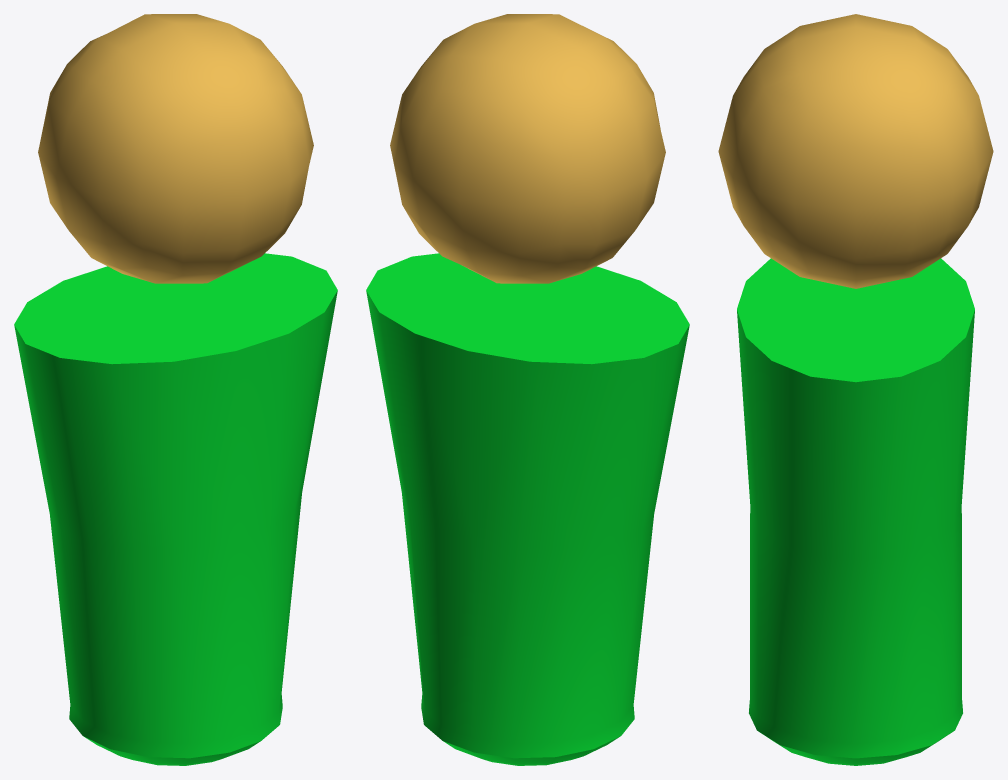
Rendered from Personagem2.fbx.
The picture shows the model from 3 angles, left to right: view 1: azimuth 30°, elevation 25°; view 2: azimuth 150°, elevation 25°; view 3: azimuth 270°, elevation 25°; orthographic projection.
Visible parts, largest first — view 1: Sphere.007; view 2: Sphere.007; view 3: Sphere.007.
Part boxes in pixels (left/top/right/bottom): Sphere.007: left=14, top=14, right=337, bottom=765; Sphere.007: left=366, top=14, right=689, bottom=765; Sphere.007: left=718, top=14, right=993, bottom=765.
Size of the model in its own units: 268 by 618 by 213.
